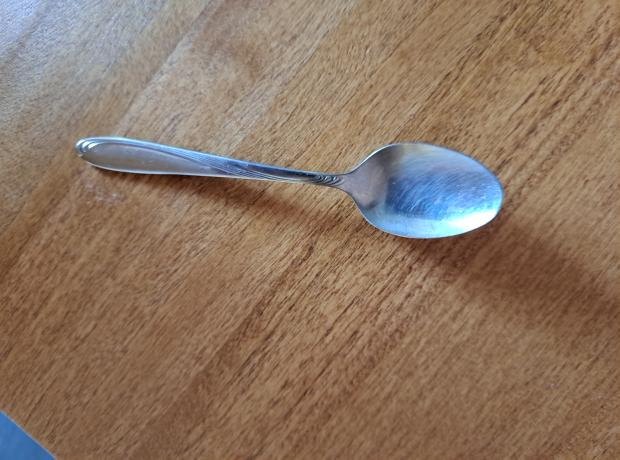metal: (71, 140, 505, 242)
